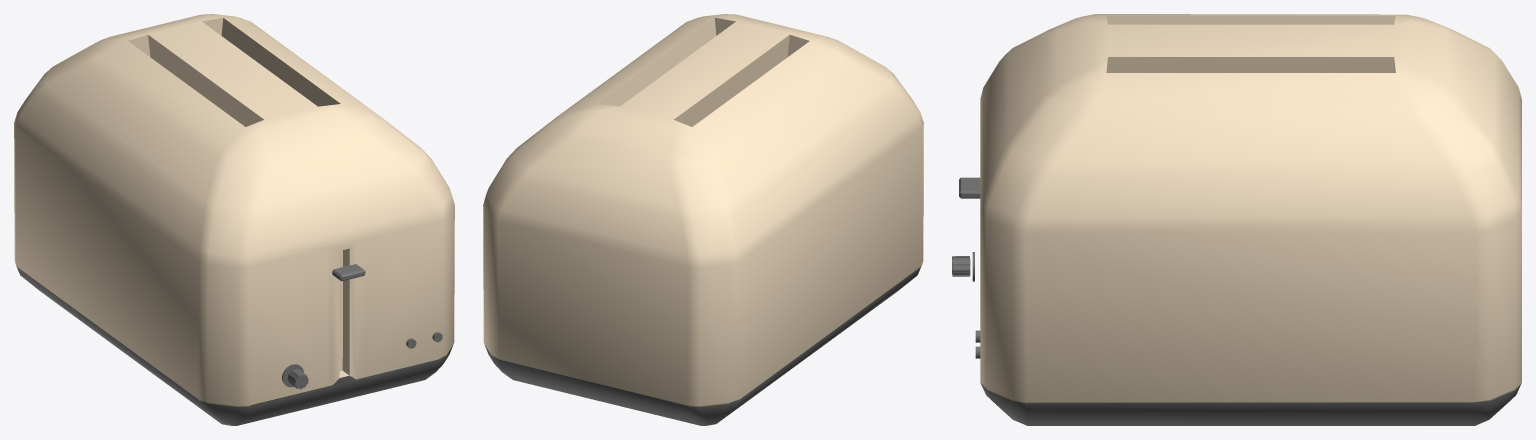
Rendered from toaster.fbx.
The picture shows the model from 3 angles, left to right: view 1: azimuth 30°, elevation 25°; view 2: azimuth 150°, elevation 25°; view 3: azimuth 270°, elevation 25°; orthographic projection. The views are drawn at different scales.
Visible parts, largest first — view 1: Body, Metal; view 2: Body; view 3: Body, Metal.
Part boxes in pixels (x1,y1,x2,y2): Body: (14, 14, 454, 425); Metal: (282, 264, 442, 389); Body: (483, 14, 923, 425); Body: (980, 14, 1521, 425); Metal: (952, 177, 980, 358).
Size of the model in its own units: 3 by 3 by 4.73.
2 materials, 2 textured.
